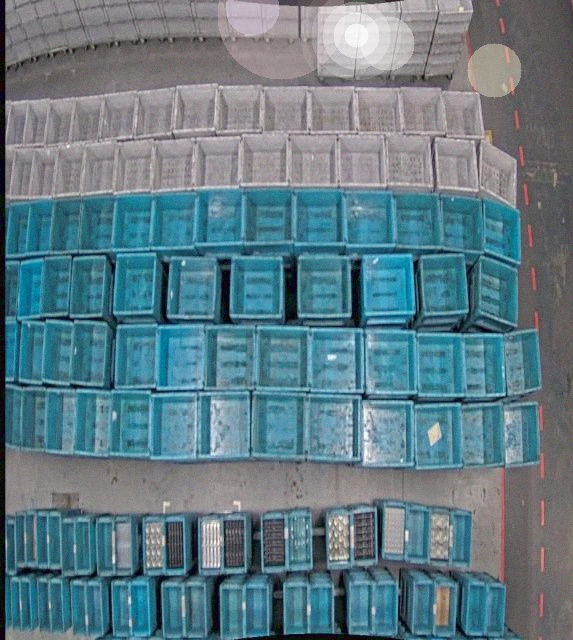Box: (296, 253, 352, 322), (361, 252, 417, 320), (229, 254, 284, 323), (256, 324, 310, 392), (365, 327, 418, 396), (411, 400, 463, 470), (360, 398, 412, 468), (310, 328, 365, 394), (472, 256, 520, 330), (292, 186, 347, 250), (305, 393, 355, 463), (166, 255, 217, 322), (252, 392, 303, 459), (415, 330, 464, 398), (420, 252, 471, 316), (461, 400, 509, 468), (245, 187, 297, 249), (344, 188, 395, 251), (158, 323, 205, 391), (204, 392, 250, 460), (240, 132, 292, 192), (288, 133, 340, 193), (337, 133, 387, 195), (463, 331, 509, 398), (196, 188, 246, 249), (394, 189, 443, 251), (387, 134, 436, 196), (154, 394, 200, 460), (498, 399, 542, 468), (210, 325, 255, 392), (437, 192, 484, 255), (114, 252, 158, 318), (433, 137, 483, 195), (110, 391, 153, 458), (194, 135, 242, 194), (153, 190, 200, 250), (481, 201, 523, 268), (214, 81, 264, 137), (116, 323, 158, 389), (171, 80, 218, 138), (260, 84, 310, 138), (354, 84, 404, 138), (306, 82, 356, 136), (504, 327, 542, 398), (436, 88, 484, 144), (480, 139, 517, 210), (152, 138, 197, 196), (71, 321, 110, 386), (399, 86, 444, 141), (114, 194, 156, 252), (98, 88, 140, 144), (72, 255, 109, 318), (134, 85, 176, 140), (115, 140, 156, 193), (81, 142, 118, 198), (81, 195, 117, 252), (50, 196, 84, 254), (52, 146, 87, 200), (48, 391, 78, 454), (46, 322, 76, 383), (73, 391, 101, 456), (43, 256, 73, 316), (350, 506, 378, 568), (21, 389, 49, 451), (44, 96, 78, 147), (328, 507, 356, 568), (18, 322, 46, 383), (28, 147, 60, 200), (70, 96, 103, 147), (404, 504, 431, 565), (380, 500, 407, 561), (285, 508, 311, 570), (26, 197, 53, 255), (18, 260, 45, 318), (263, 510, 287, 573), (372, 580, 398, 637), (223, 514, 248, 573), (449, 511, 474, 570), (221, 583, 247, 639), (426, 509, 450, 569), (243, 582, 269, 637), (24, 97, 52, 148), (9, 148, 36, 200), (163, 514, 186, 575), (200, 514, 223, 574), (349, 584, 374, 639), (411, 580, 435, 637), (307, 582, 333, 634), (466, 581, 490, 637), (143, 514, 165, 574), (162, 582, 185, 638), (435, 580, 457, 638), (6, 201, 29, 256), (184, 582, 207, 637), (130, 581, 152, 637), (284, 585, 309, 634), (114, 515, 134, 574), (112, 584, 132, 640), (5, 100, 27, 150), (5, 384, 22, 448), (95, 516, 113, 574), (88, 580, 106, 638), (487, 584, 506, 637), (70, 582, 88, 637), (46, 510, 62, 568), (5, 261, 20, 321), (74, 516, 89, 574), (50, 579, 65, 634), (35, 510, 49, 568), (38, 579, 52, 634), (5, 320, 17, 383), (23, 510, 36, 568), (20, 577, 33, 632), (14, 511, 26, 569), (10, 577, 22, 632), (30, 578, 42, 632), (5, 519, 16, 576), (361, 0, 402, 13), (399, 0, 438, 13), (437, 0, 474, 13), (318, 5, 361, 13)
